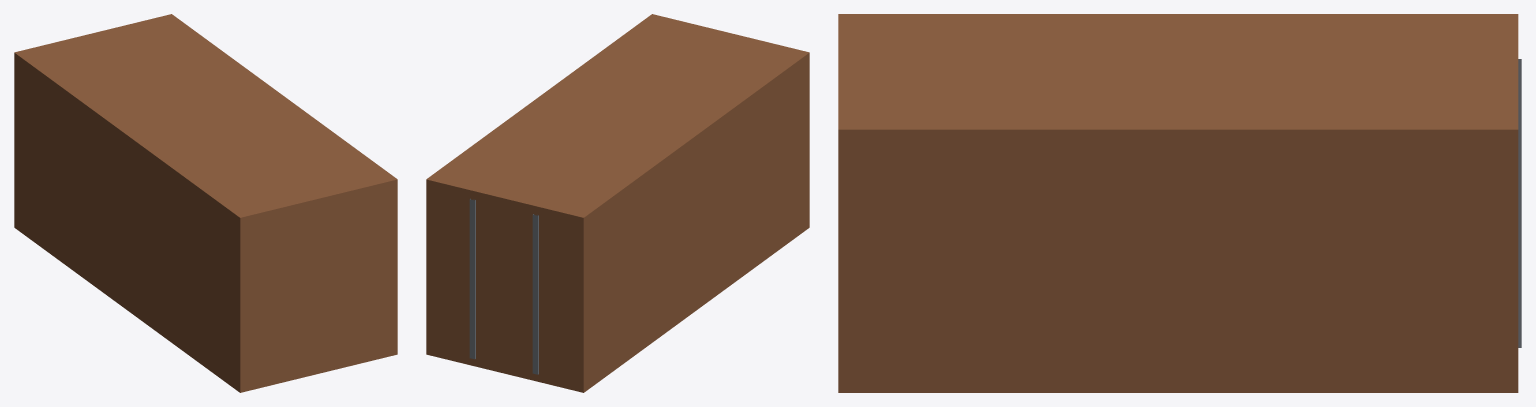
The picture shows the model from 3 angles, left to right: view 1: azimuth 30°, elevation 25°; view 2: azimuth 150°, elevation 25°; view 3: azimuth 270°, elevation 25°; orthographic projection. The views are drawn at different scales.
Visible parts, largest first — view 1: 408; view 2: 408; view 3: 408.
Boxes of the visible parts, x1,y1,x2,y2 form: 408: (14,14,397,392); 408: (426,14,809,392); 408: (838,14,1521,392).
Size of the model in its own units: 2.44 by 2.59 by 6.09.
